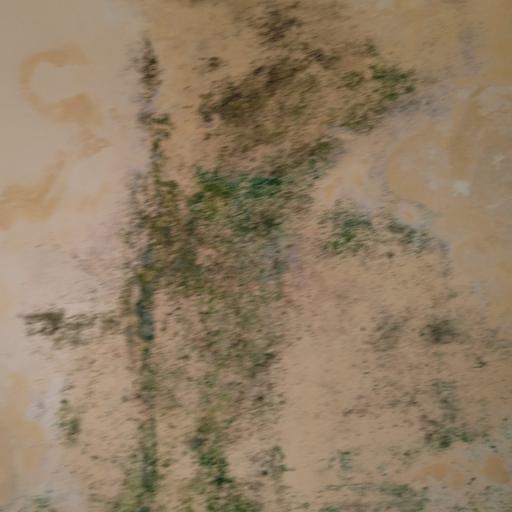algae: (87, 10, 481, 512)
